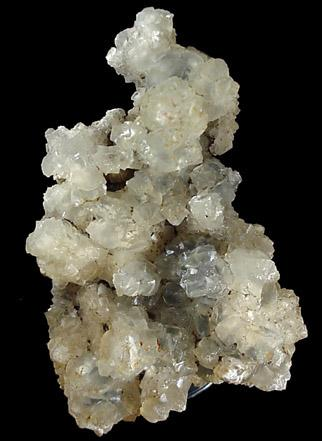prehnite: (25, 7, 308, 436)
